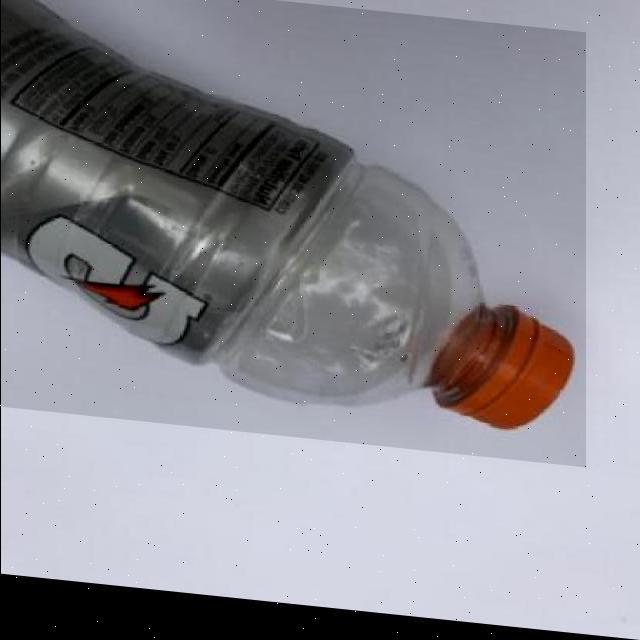plastic: (0, 0, 585, 469)
